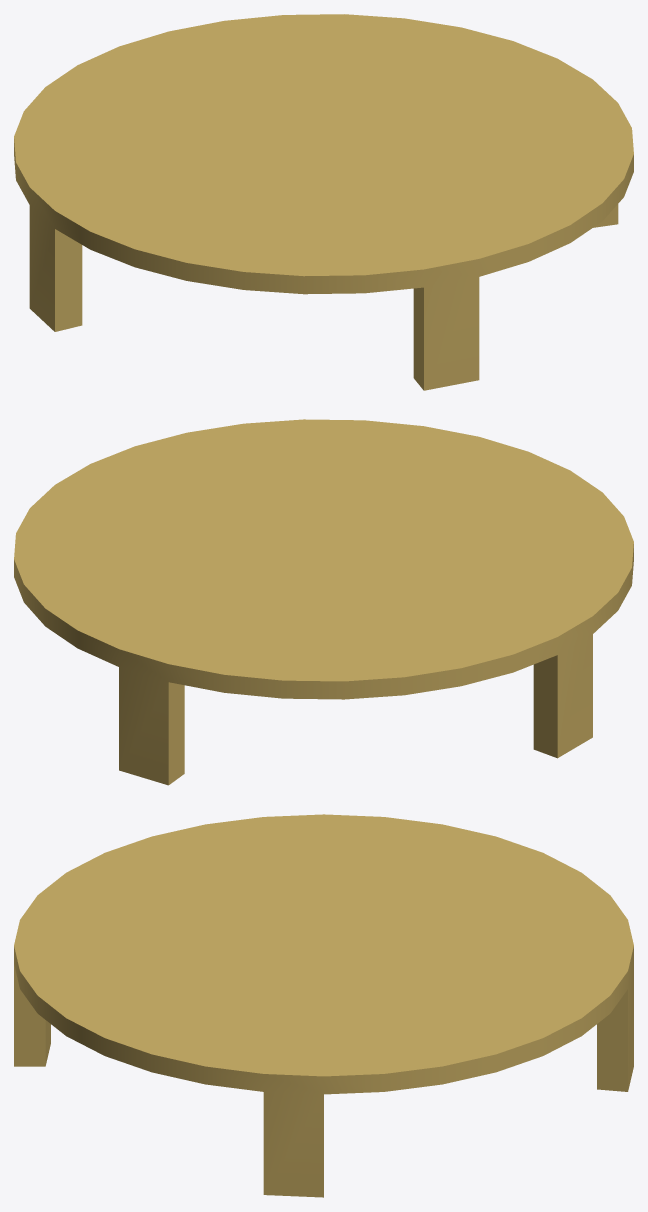
The model's file is SM_CoffeeTable.fbx.
The picture shows the model from 3 angles, top to bottom: view 1: azimuth 30°, elevation 25°; view 2: azimuth 150°, elevation 25°; view 3: azimuth 270°, elevation 25°; orthographic projection.
Visible parts, largest first — view 1: SM_CoffeeTable; view 2: SM_CoffeeTable; view 3: SM_CoffeeTable.
Part boxes in pixels (x1,y1,x2,y2): SM_CoffeeTable: (14, 14, 633, 390); SM_CoffeeTable: (14, 419, 633, 785); SM_CoffeeTable: (14, 814, 633, 1197).
Size of the model in its own units: 115 by 24.88 by 115.
